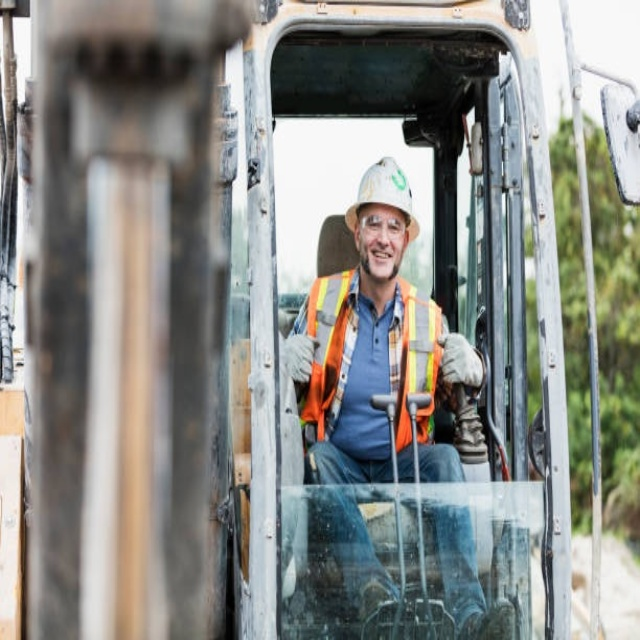Gafas: (360, 213, 408, 236)
Guantes: (436, 326, 482, 387), (282, 329, 321, 381)
Sin_mascara: (370, 243, 393, 275)
